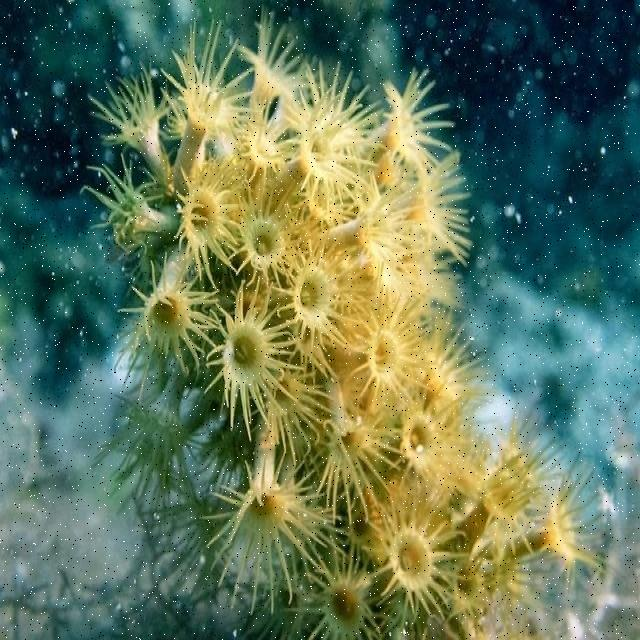reefs: (78, 8, 608, 639)
